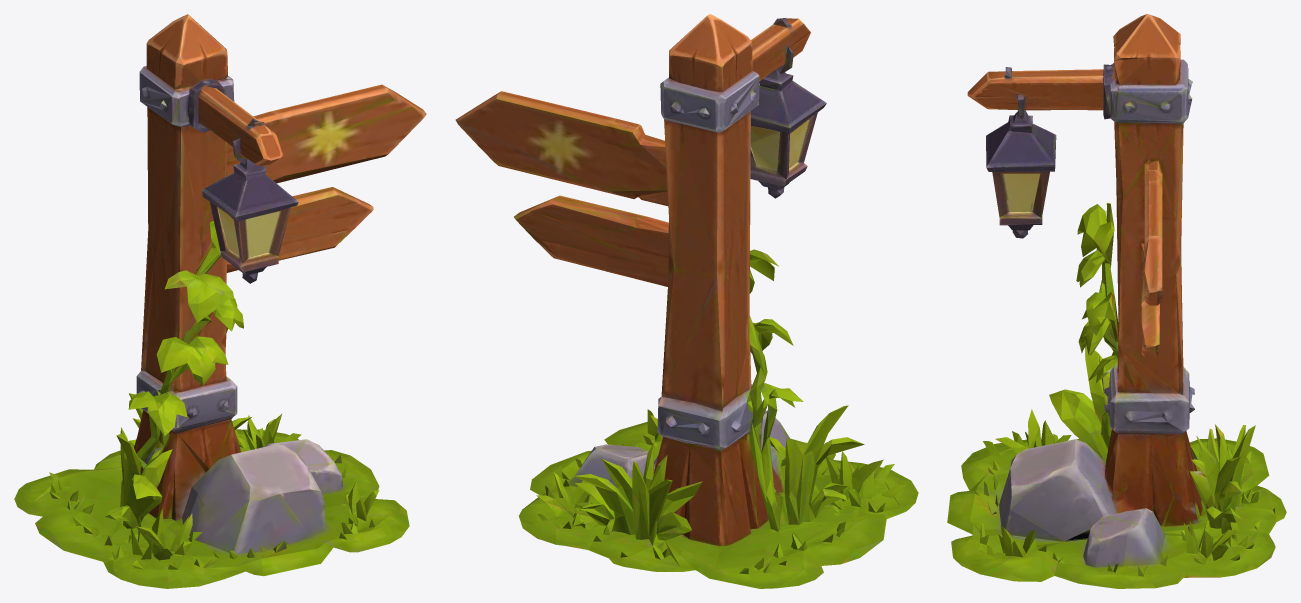
Rendered from signpost_b4.glb.
3 renders of one model, left to right at view 1: azimuth 30°, elevation 25°; view 2: azimuth 150°, elevation 25°; view 3: azimuth 270°, elevation 25°, orthographic. The views are drawn at different scales.
Visible parts, largest first — view 1: output_unwrapped; view 2: output_unwrapped; view 3: output_unwrapped.
Boxes of the visible parts, box(x1,y1,x2,y2) form: output_unwrapped: box(14, 14, 426, 588); output_unwrapped: box(455, 14, 918, 588); output_unwrapped: box(947, 14, 1286, 588).
Bounding box in the file's own units: 1.58 × 1.9 × 1.19.
Materials: 1 (1 with a texture image).
